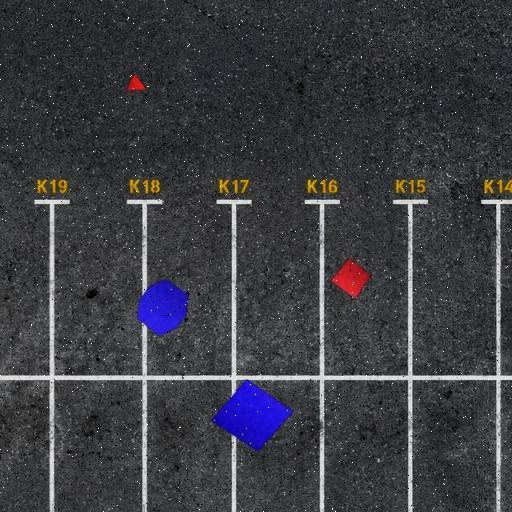BLUE_SQUARE: (210, 378, 294, 453)
RED_SQUARE: (330, 257, 372, 299)
